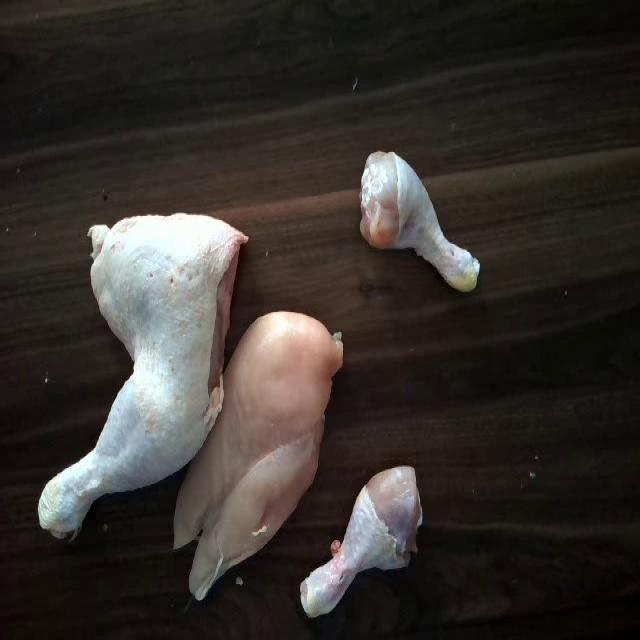breast: (184, 302, 340, 584)
leg: (299, 462, 433, 614), (352, 150, 490, 296)
quater: (45, 190, 238, 550)
